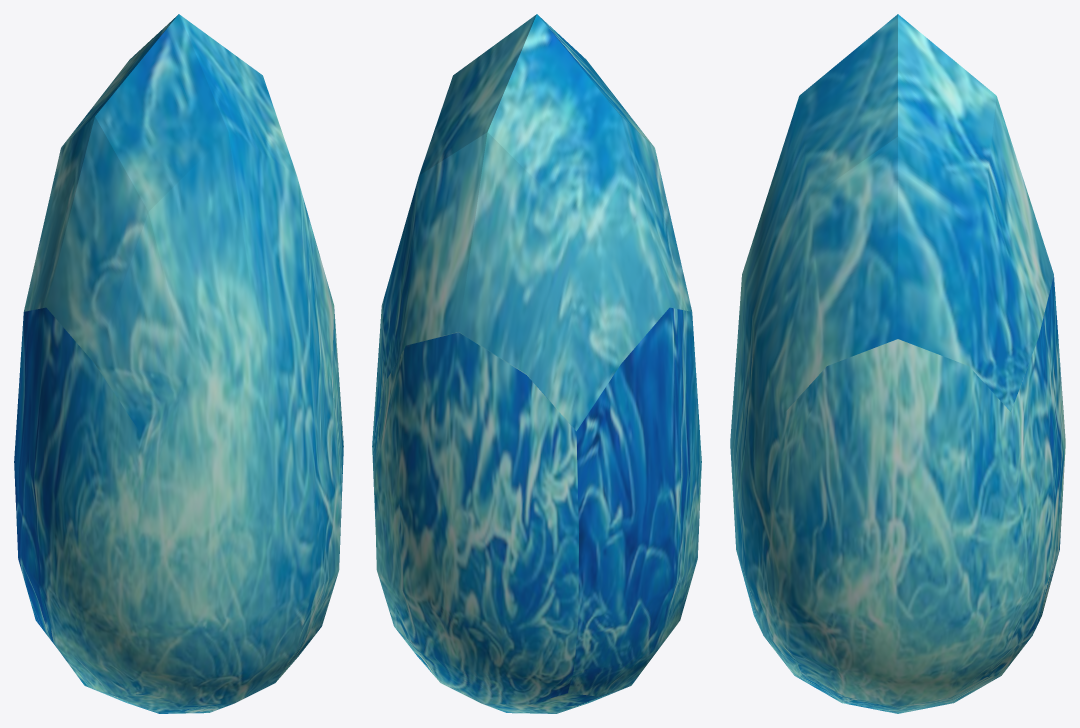
Rendered from fuego_azul_text.obj.
3 views of the same model, side by side, from view 1: azimuth 30°, elevation 25°; view 2: azimuth 150°, elevation 25°; view 3: azimuth 270°, elevation 25° (orthographic).
Parts seen in each view (by area): view 1: Mesh; view 2: Mesh; view 3: Mesh.
Part boxes in pixels (x1,y1,x2,y2): Mesh: (14, 14, 343, 713); Mesh: (372, 14, 701, 713); Mesh: (730, 14, 1065, 713).
Size of the model in its own units: 0.7653 by 1.76 by 0.7815.
